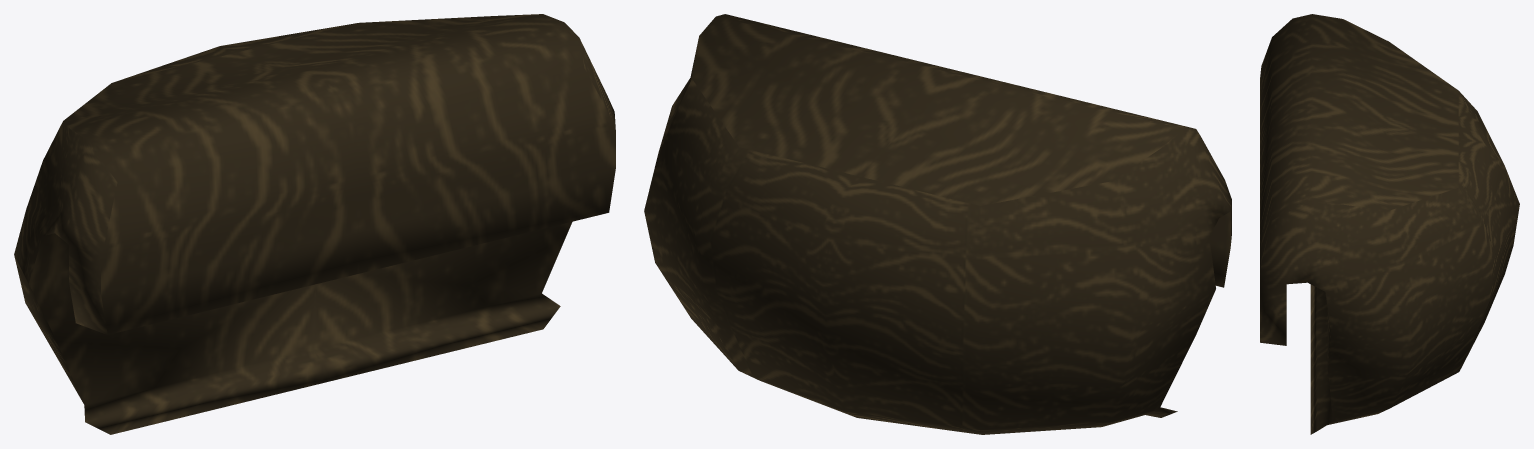
File: hair_balding_general.fbx
3 renders of one model, left to right at view 1: azimuth 30°, elevation 25°; view 2: azimuth 150°, elevation 25°; view 3: azimuth 270°, elevation 25°, orthographic. The views are drawn at different scales.
Parts seen in each view (by area): view 1: baldhair1:polySurface70; view 2: baldhair1:polySurface70; view 3: baldhair1:polySurface70.
Part boxes in pixels (x1,y1,x2,y2): baldhair1:polySurface70: [14, 14, 615, 434]; baldhair1:polySurface70: [644, 14, 1231, 434]; baldhair1:polySurface70: [1260, 14, 1519, 434].
Size of the model in its own units: 12 by 6.04 by 5.88.
